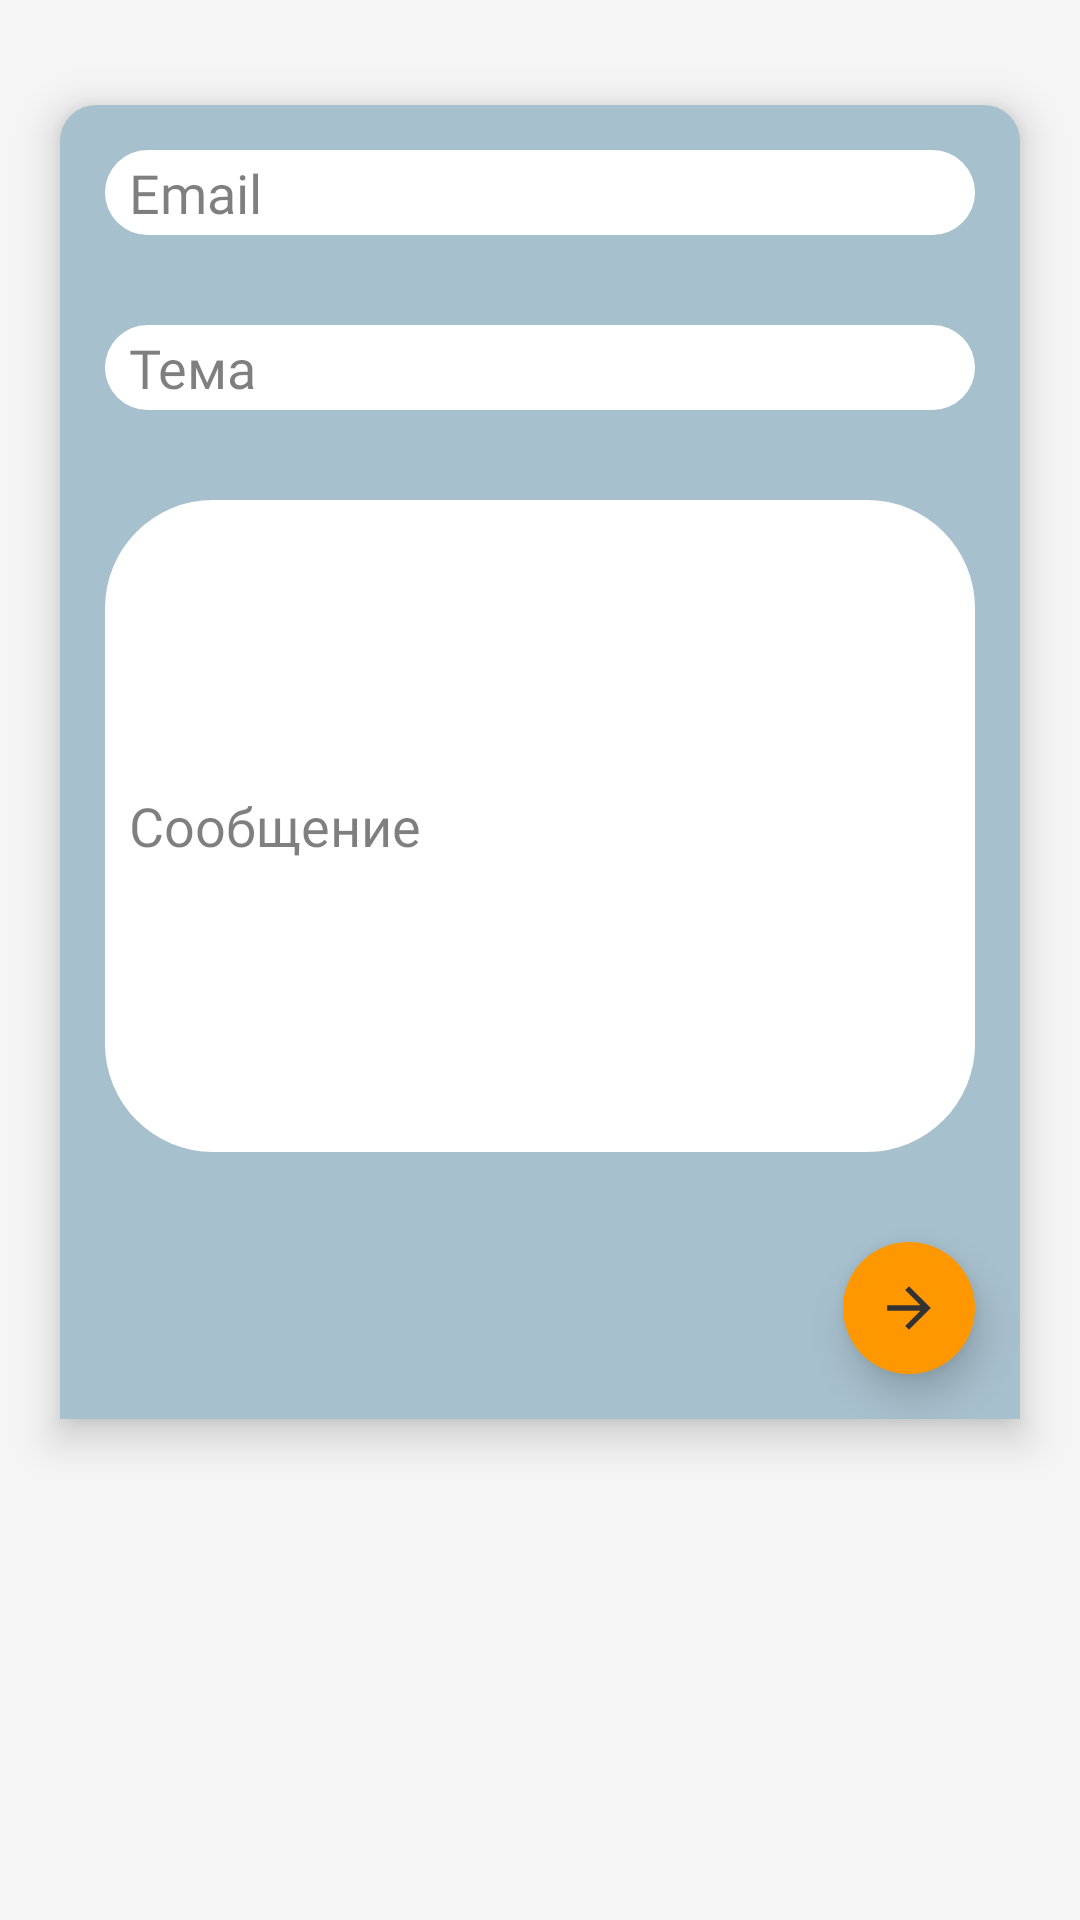

Icon click points for this 1080px x 1920px phone screenshot, format (x=x, y=y):
Send: (x=909, y=1308)
